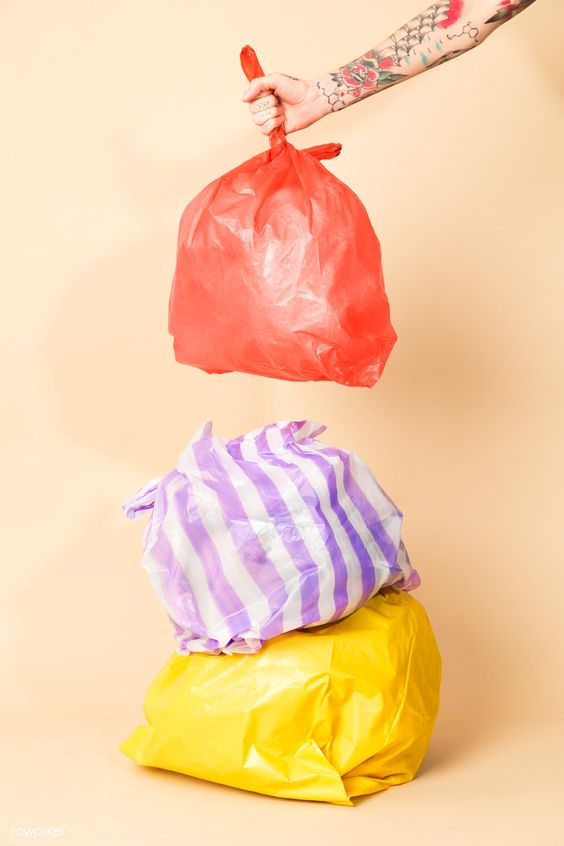papel: (105, 412, 438, 662), (168, 35, 392, 403), (120, 613, 458, 818)
